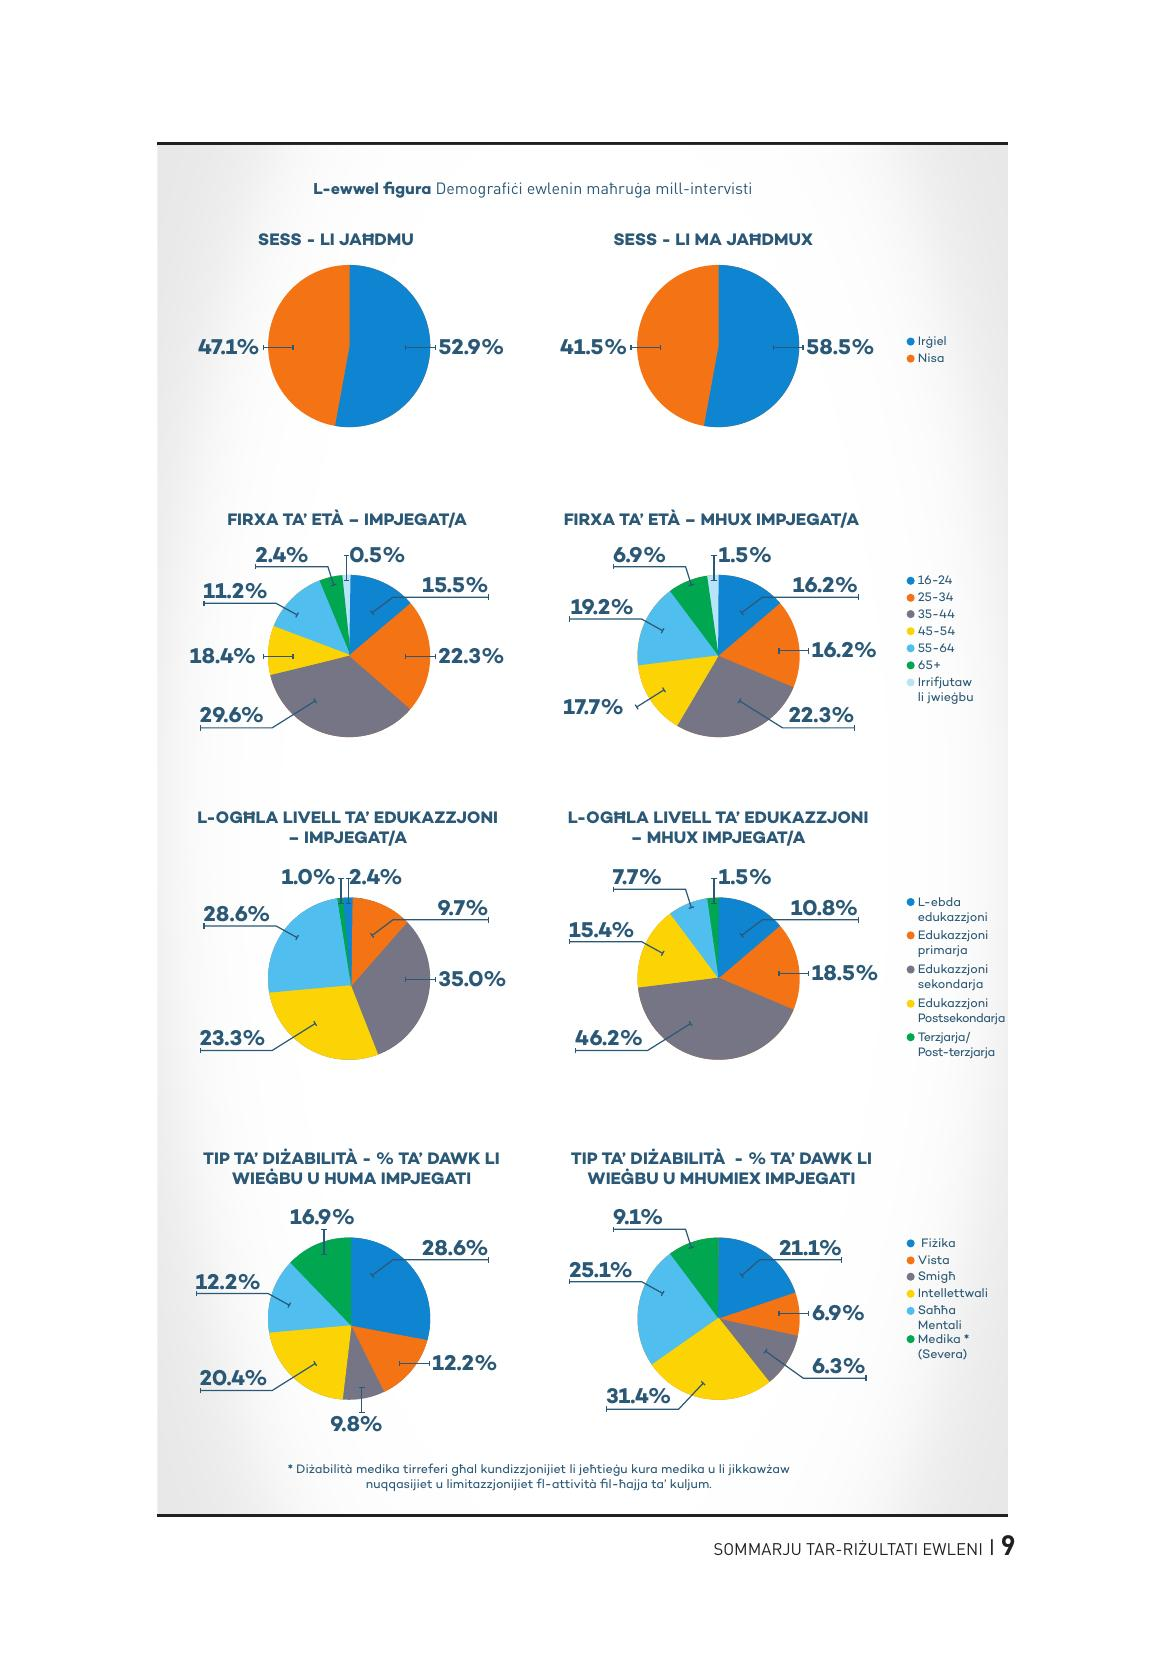text: (560, 1135, 888, 1199), (182, 794, 509, 853), (559, 799, 882, 855), (298, 169, 757, 207), (178, 1139, 522, 1187), (551, 496, 866, 541), (220, 498, 473, 537), (601, 223, 823, 257), (246, 221, 423, 257)
